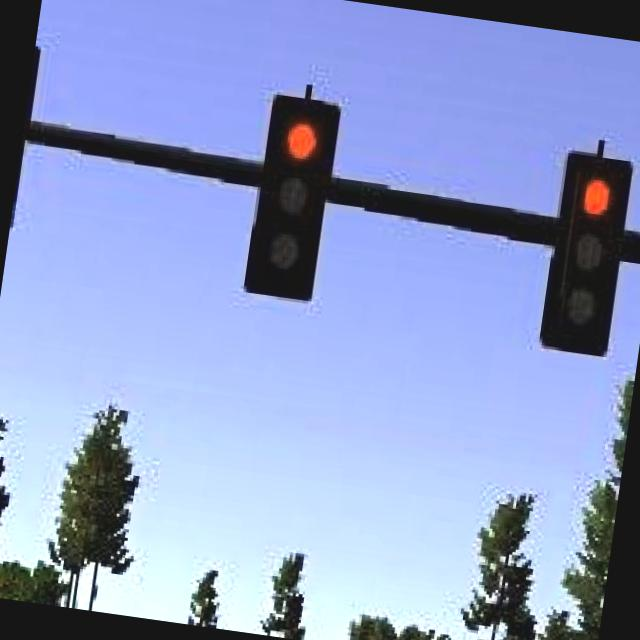Czerwone swiatlo: (541, 153, 637, 358), (250, 94, 340, 298)
